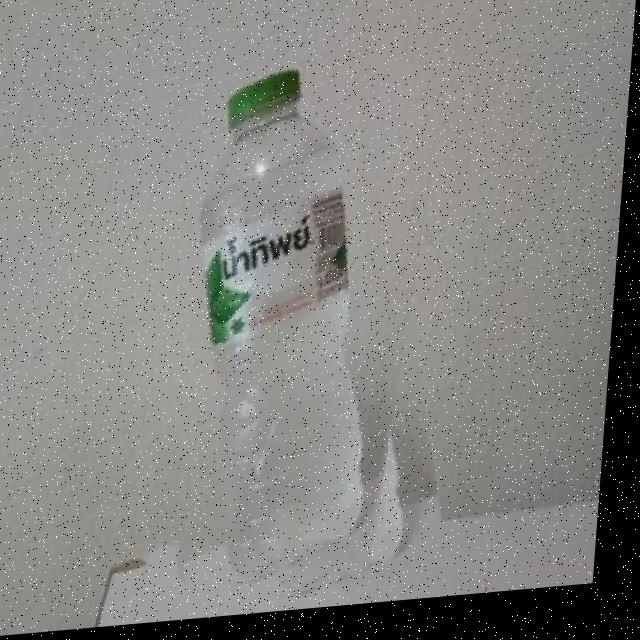plasticbottle: (155, 56, 457, 615)
